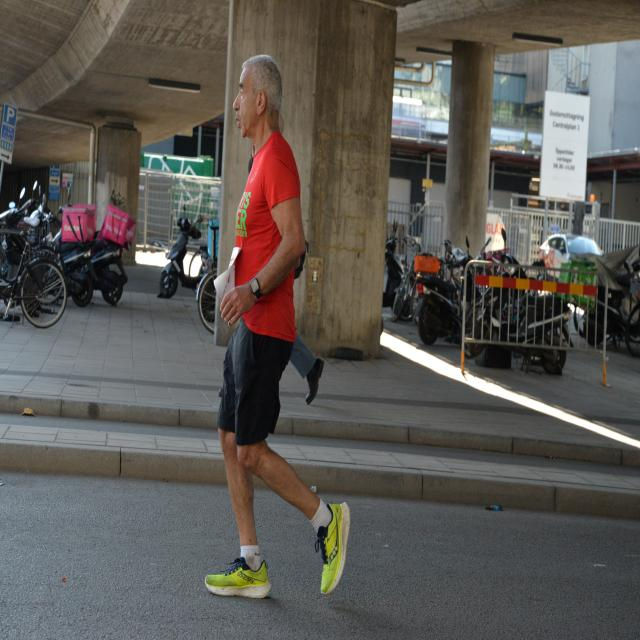runner-detect: (199, 44, 351, 614)
